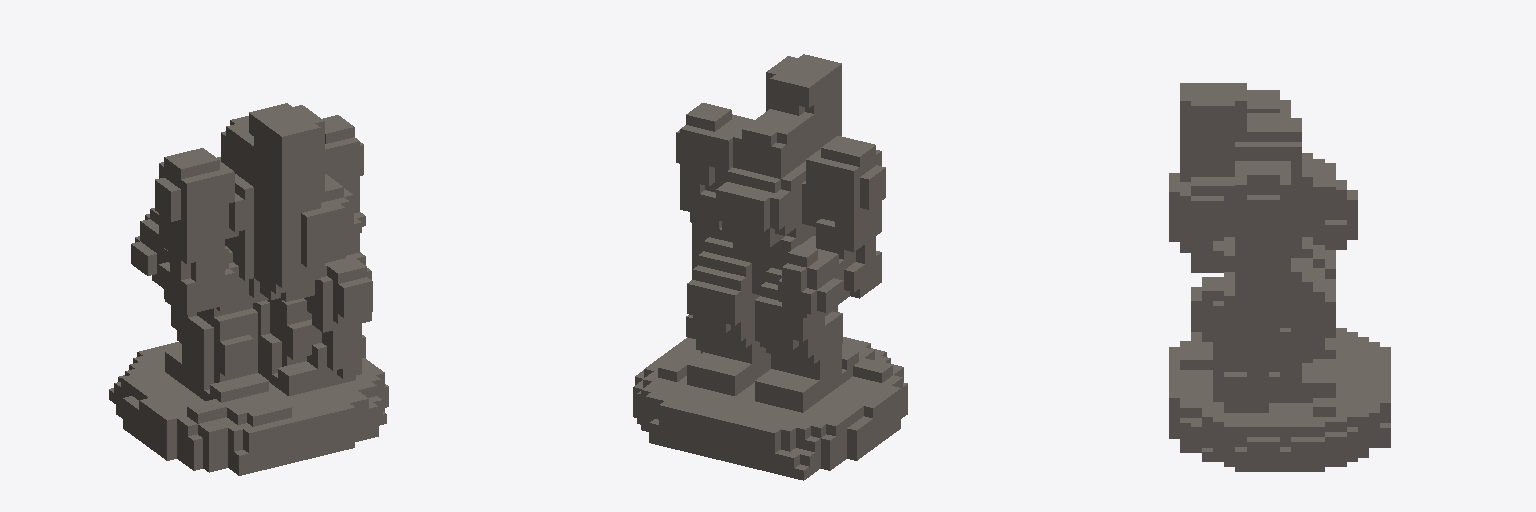
The model's file is machine_23x32x20.obj.
The picture shows the model from 3 angles: view 1: azimuth 30°, elevation 25°; view 2: azimuth 150°, elevation 25°; view 3: azimuth 270°, elevation 25°; orthographic projection.
Bounding box in the file's own units: 7.42 × 10.32 × 6.45.